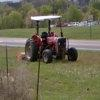Tractor: (13, 12, 81, 68)
